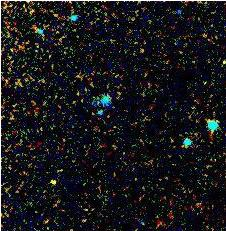star: (33, 165, 63, 195)
